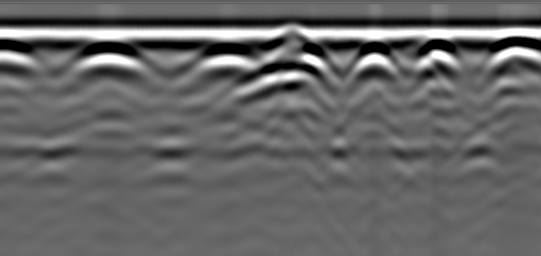pipe: (274, 24, 311, 41)
steel: (77, 43, 142, 76), (494, 38, 540, 74), (196, 45, 259, 70), (354, 41, 395, 77), (421, 41, 461, 73)
